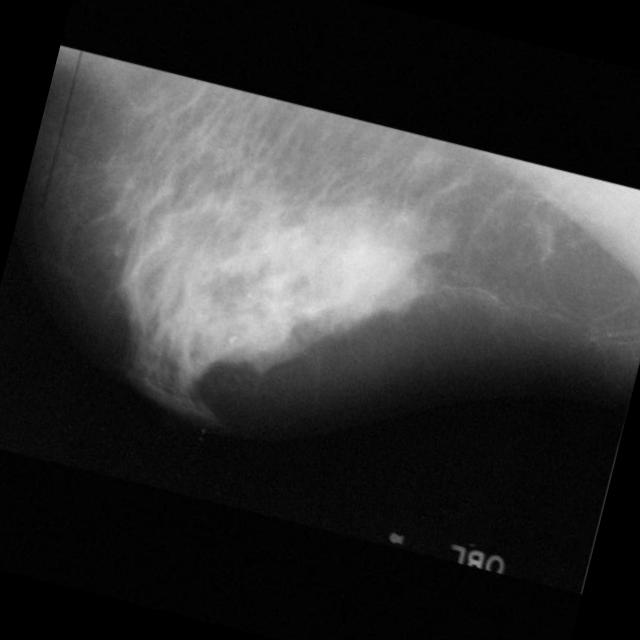ARCH: (204, 254, 336, 386)
